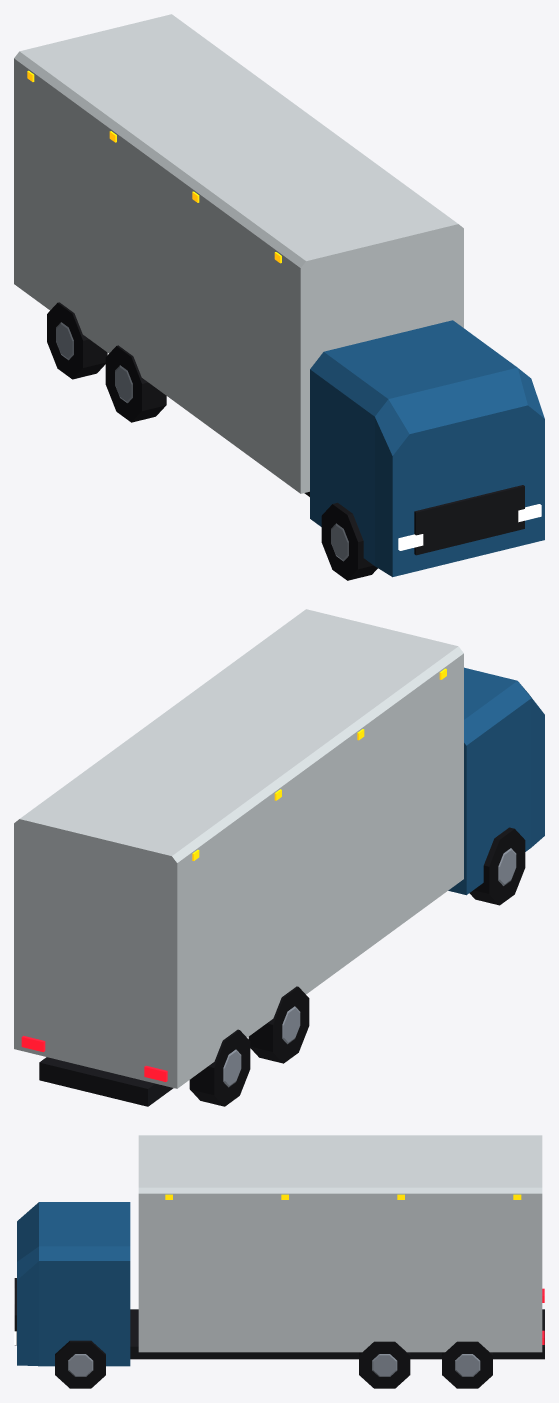
File: truck.glb
3 renders of one model, top to bottom at view 1: azimuth 30°, elevation 25°; view 2: azimuth 150°, elevation 25°; view 3: azimuth 270°, elevation 25°, orthographic. The views are drawn at different scales.
Parts seen in each view (by area): view 1: Trailer, Cab, Grille, Wheel2, Wheel4, Wheel0; view 2: Trailer, Cab, Chassis, Wheel4, Wheel2, Wheel0; view 3: Trailer, Cab, Chassis, Wheel1, Wheel3, Wheel5, Hub3, Hub1, Hub5.
Part boxes in pixels (x1,y1,x2,y2): Trailer: (14,14,463,493); Cab: (310,320,544,577); Grille: (414,485,524,555); Wheel2: (105,345,166,422); Wheel4: (47,302,107,379); Wheel0: (321,502,377,580); Trailer: (14,609,463,1088); Cab: (448,667,544,895); Chassis: (39,1057,173,1106); Wheel4: (189,1029,250,1106); Wheel2: (248,986,309,1063); Wheel0: (469,827,525,905); Trailer: (138,1135,542,1352); Cab: (17,1202,130,1366); Chassis: (130,1309,544,1359); Wheel1: (55,1340,105,1388); Wheel3: (359,1341,410,1388); Wheel5: (442,1341,492,1388); Hub3: (372,1354,397,1376); Hub1: (68,1354,93,1376); Hub5: (455,1354,480,1376).
Size of the model in its own units: 2.48 by 3.96 by 9.61.
